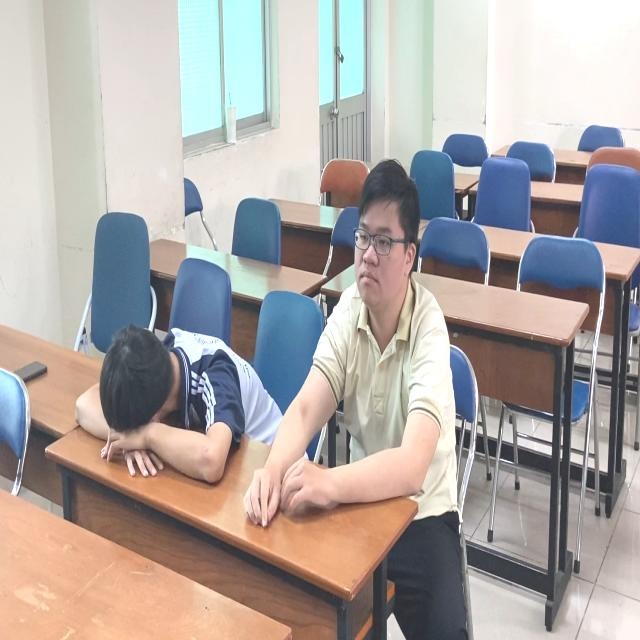sleep: (68, 315, 284, 502)
